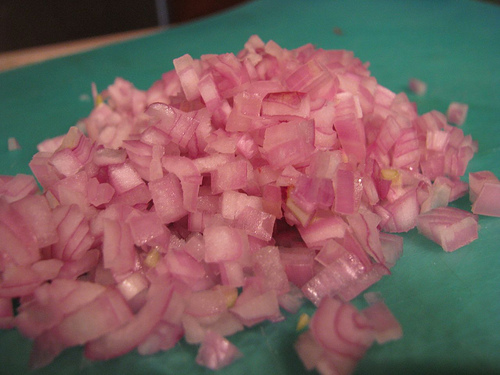onion: (2, 35, 499, 374)
